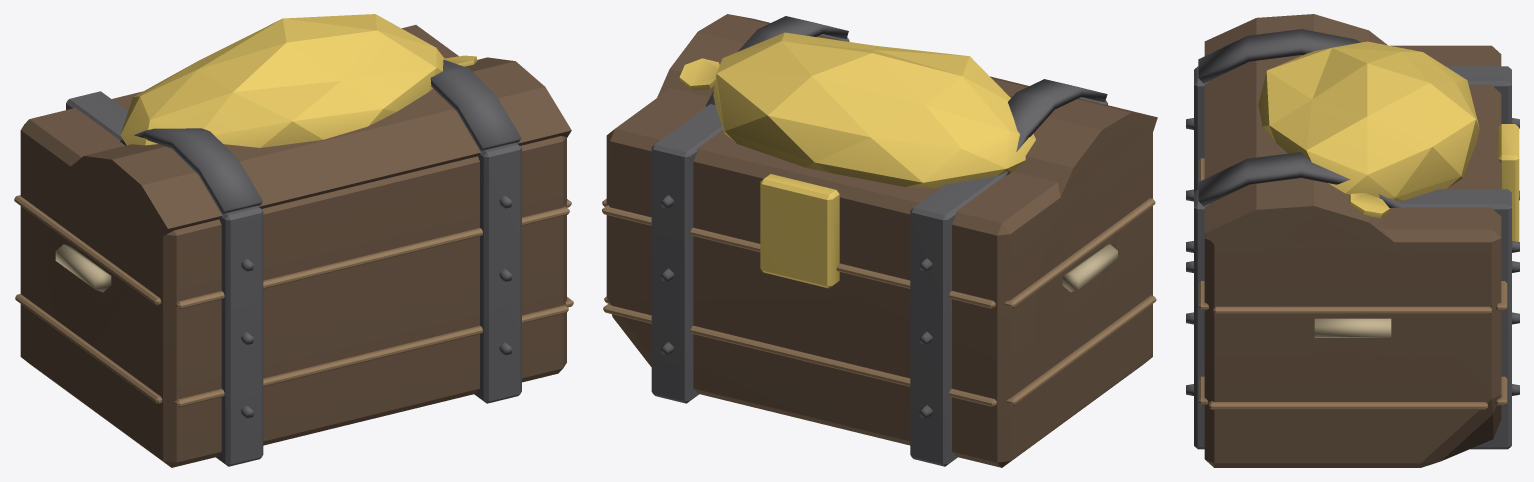
The model's file is chest_open.405c3d92.glb.
3 renders of one model, left to right at view 1: azimuth 30°, elevation 25°; view 2: azimuth 150°, elevation 25°; view 3: azimuth 270°, elevation 25°, orthographic. The views are drawn at different scales.
Parts seen in each view (by area): view 1: chest_open; view 2: chest_open; view 3: chest_open.
Part boxes in pixels (x1,y1,x2,y2): chest_open: [14, 14, 573, 467]; chest_open: [602, 14, 1157, 467]; chest_open: [1186, 14, 1519, 467].
Bounding box in the file's own units: 1.03 × 0.77 × 0.698.
